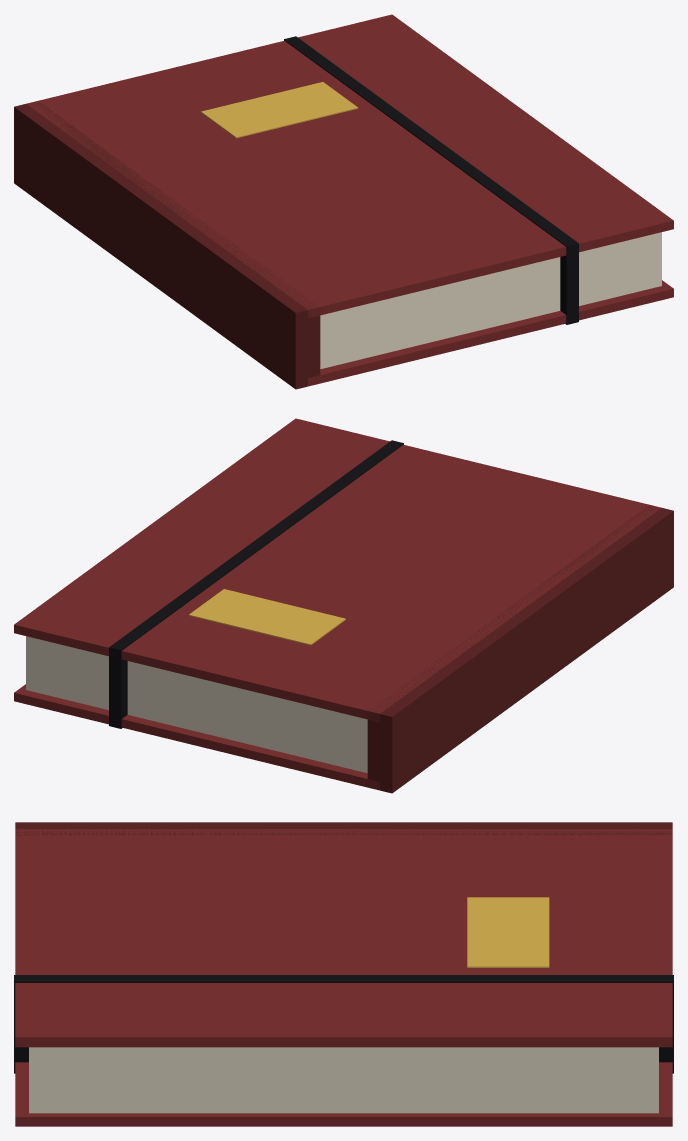
File: gaffer-ledger.glb
The picture shows the model from 3 angles, top to bottom: view 1: azimuth 30°, elevation 25°; view 2: azimuth 150°, elevation 25°; view 3: azimuth 270°, elevation 25°; orthographic projection. The views are drawn at different scales.
Visible parts, largest first — view 1: gaffer_ledger; view 2: gaffer_ledger; view 3: gaffer_ledger.
Boxes of the visible parts, x1,y1,x2,y2 form: gaffer_ledger: (14,14,673,389); gaffer_ledger: (14,418,673,793); gaffer_ledger: (14,822,673,1126).
Size of the model in its own units: 0.186 by 0.037 by 0.241.
